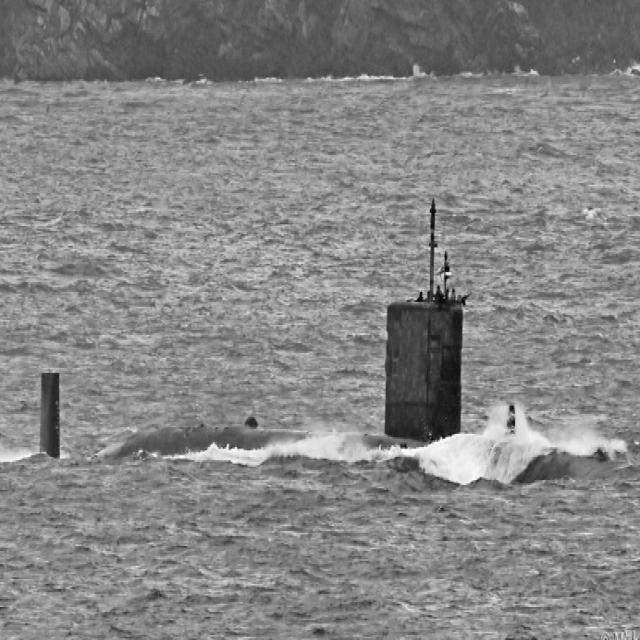submarine: (44, 203, 630, 480)
